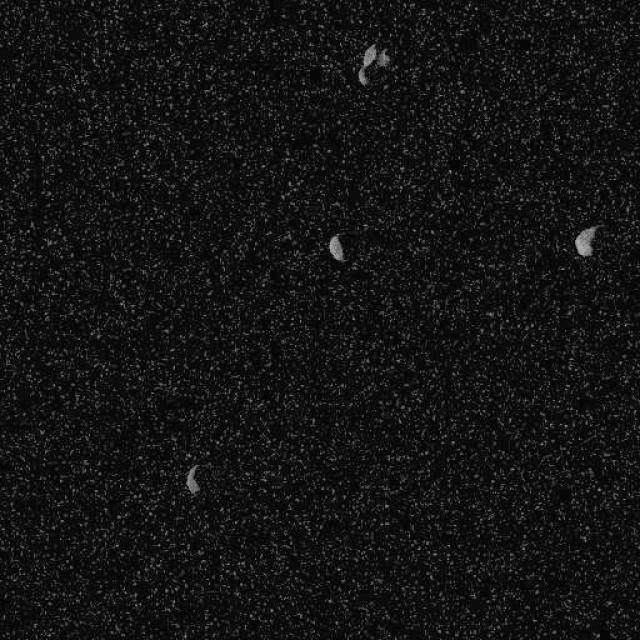D2: (356, 42, 392, 86), (572, 224, 598, 258), (326, 234, 345, 261), (184, 463, 200, 495)
